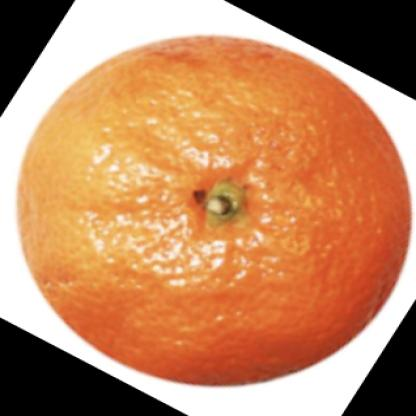fresh: (20, 36, 414, 386)
